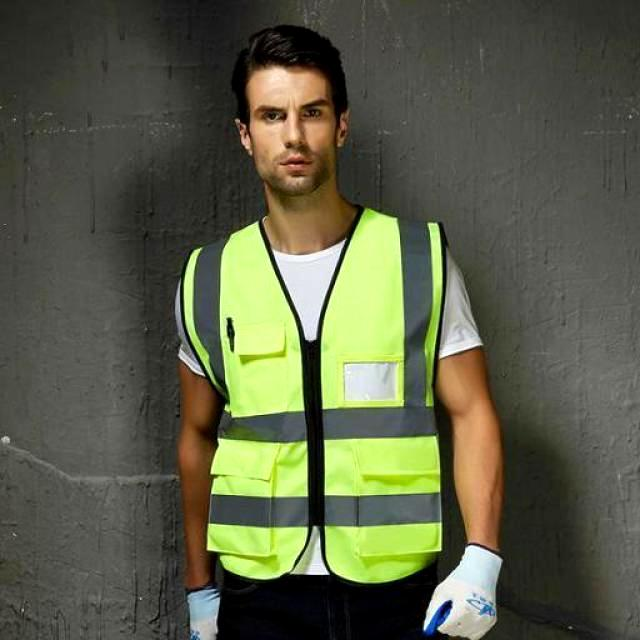no_head_wear: (232, 25, 348, 126)
person: (175, 25, 502, 639)
